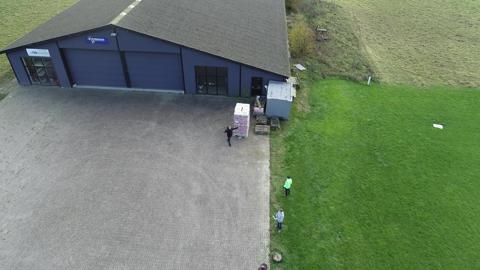RockwoolPallet: (235, 102, 250, 136)
